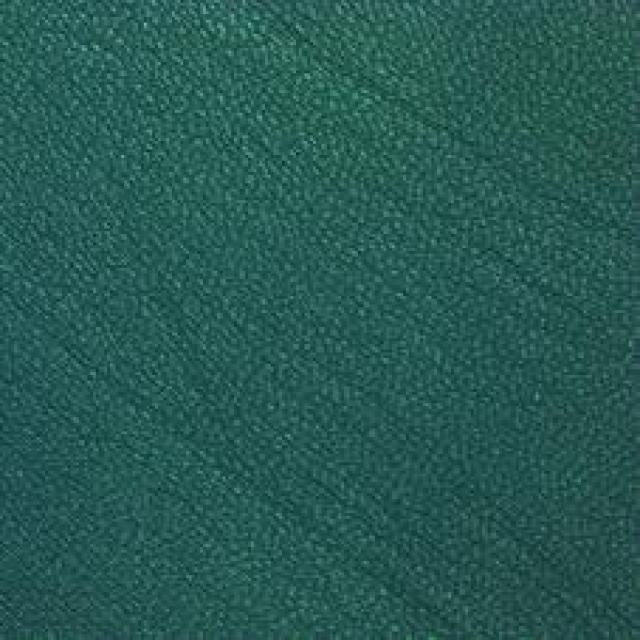Growth Marks: (115, 359, 421, 600), (327, 43, 570, 220)
